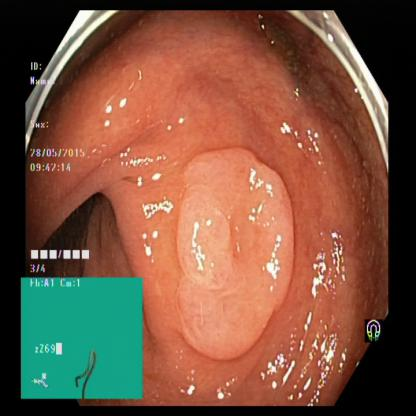Labels: (27, 57, 101, 279), (22, 276, 140, 397), (365, 310, 388, 358)
Polyps: (173, 150, 293, 365)
